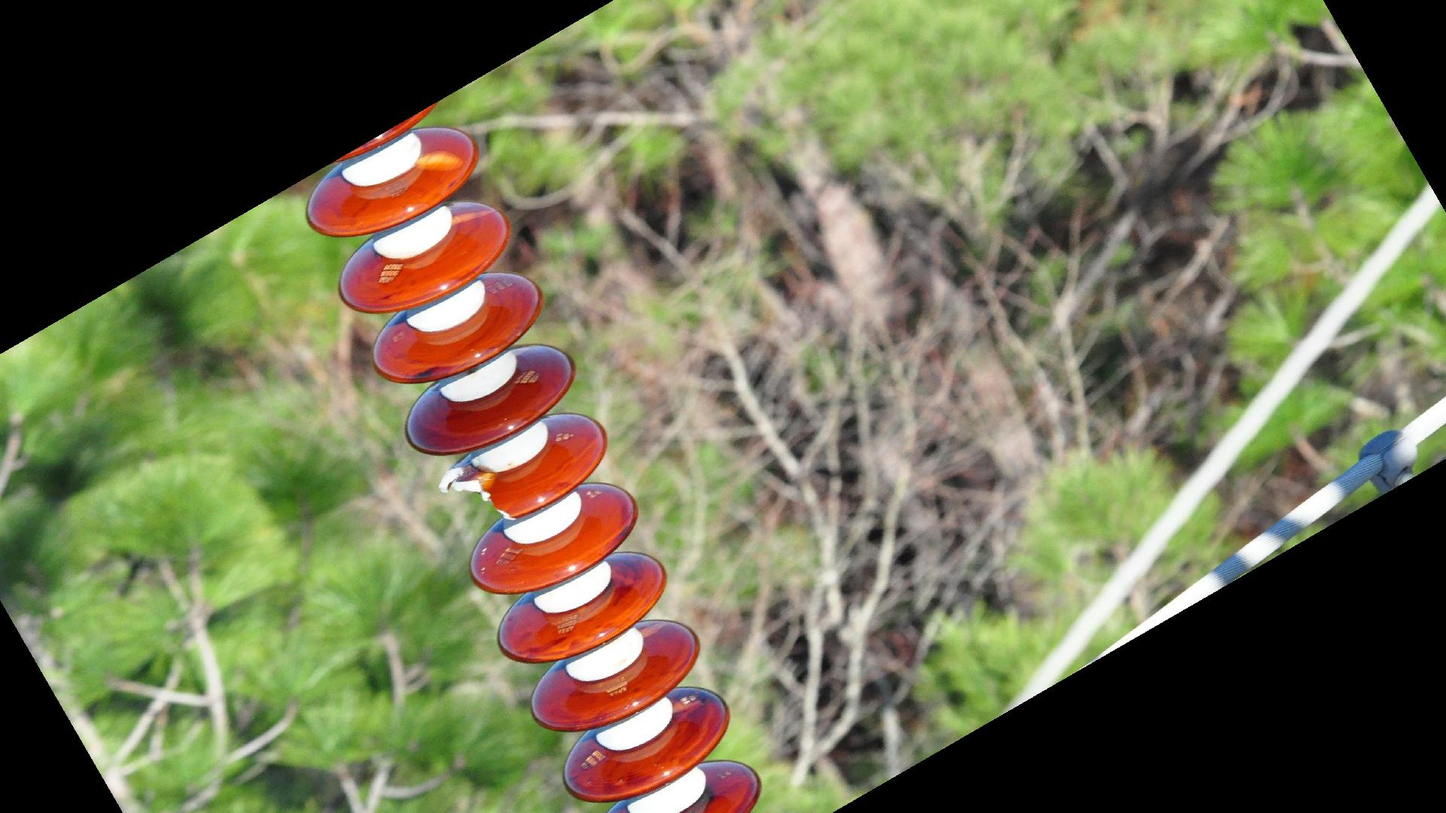insulator: (298, 108, 767, 813)
insulator_breakage: (435, 463, 519, 527)
insulator_flashover: (415, 148, 465, 174)
